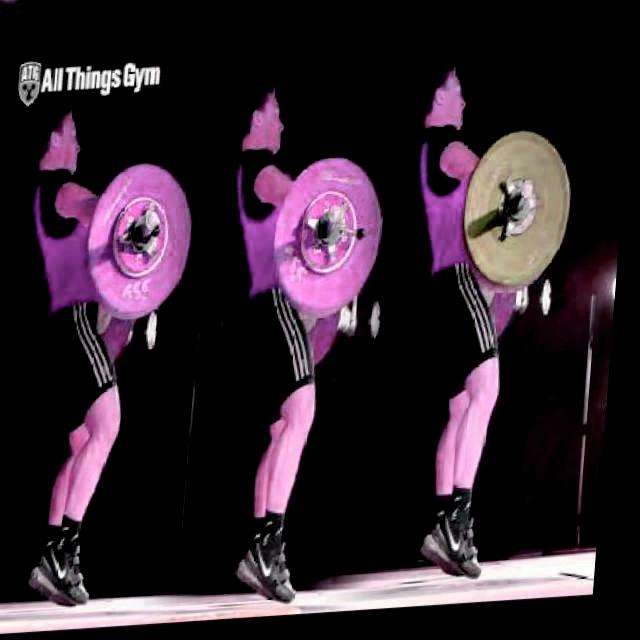barbell: (455, 128, 585, 307), (270, 151, 395, 327), (83, 158, 201, 325)
